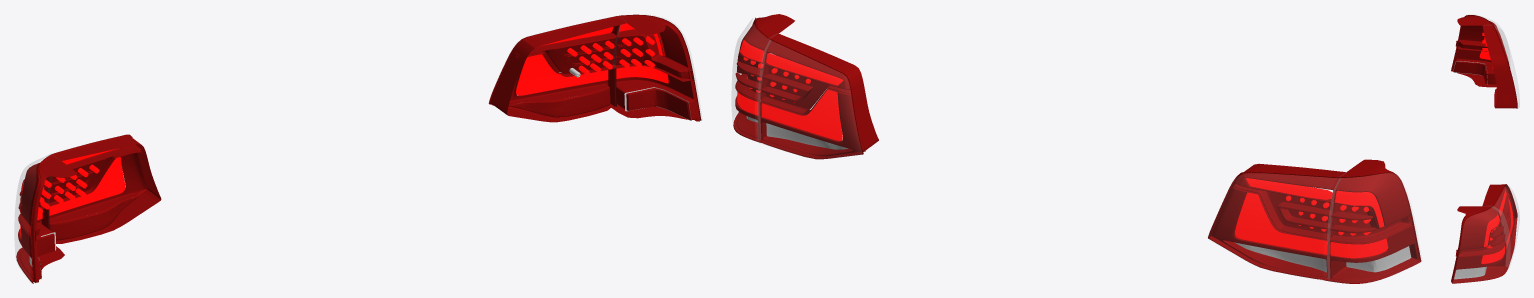
File: стописток.glb
3 views of the same model, side by side, from view 1: azimuth 30°, elevation 25°; view 2: azimuth 150°, elevation 25°; view 3: azimuth 270°, elevation 25° (orthographic). The views are drawn at different scales.
Parts seen in each view (by area): view 1: red car, red light, window; view 2: red car, red light, chrome, window; view 3: red car, window, red light, chrome.
Part boxes in pixels (bbox=[...]): red car: bbox=[16, 14, 701, 283]; red light: bbox=[20, 23, 668, 237]; window: bbox=[14, 25, 620, 256]; red car: bbox=[733, 14, 1421, 283]; red light: bbox=[737, 40, 1388, 258]; chrome: bbox=[746, 116, 1411, 272]; window: bbox=[731, 18, 1341, 280]; red car: bbox=[1451, 15, 1517, 283]; window: bbox=[1486, 18, 1519, 267]; red light: bbox=[1479, 32, 1513, 263]; chrome: bbox=[1453, 61, 1487, 279].
Size of the model in its own units: 2.19 by 0.3002 by 0.2977.
